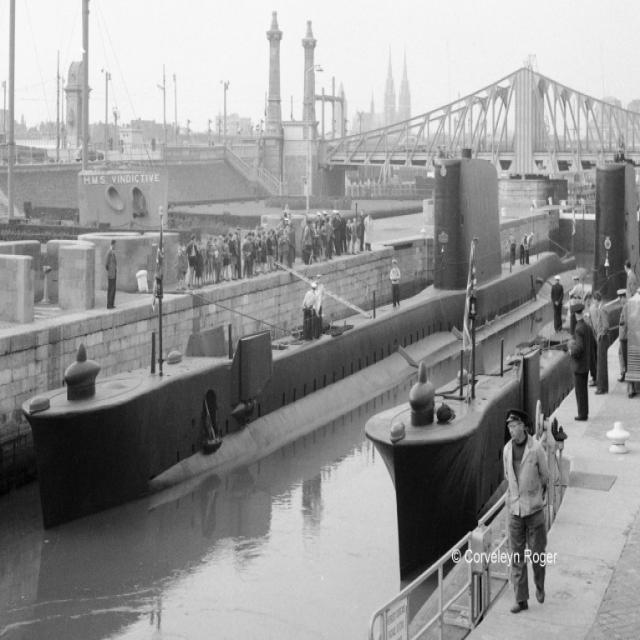submarine: (30, 135, 576, 542), (359, 140, 639, 594)
